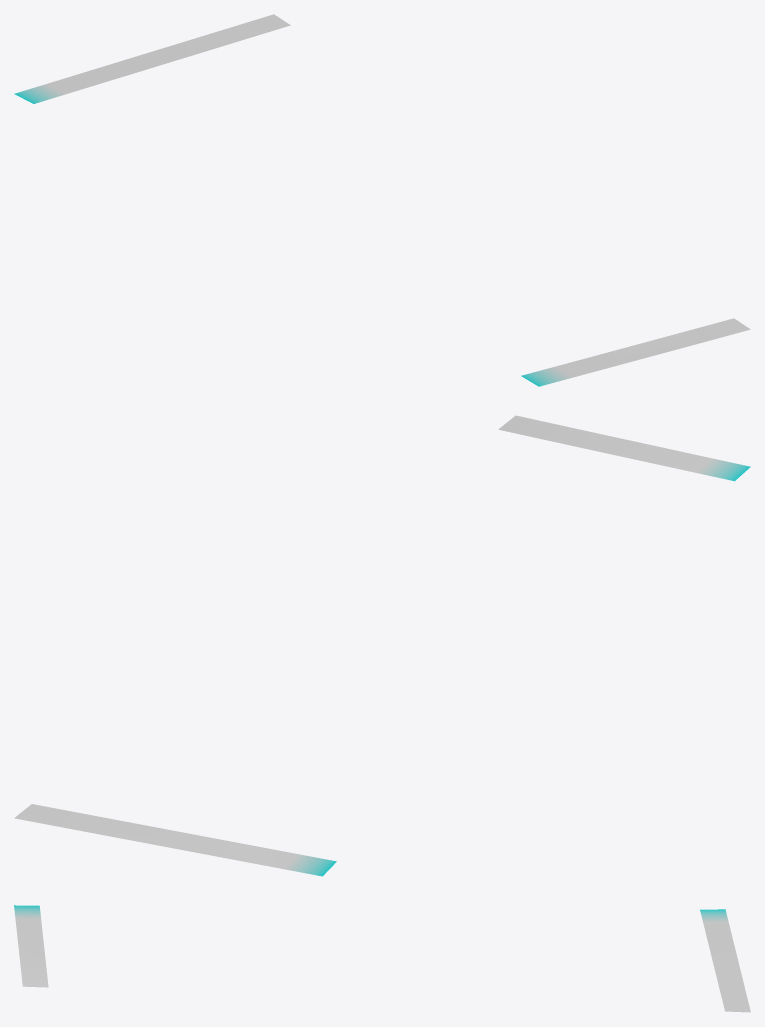
3 renders of one model, top to bottom at view 1: azimuth 30°, elevation 25°; view 2: azimuth 150°, elevation 25°; view 3: azimuth 270°, elevation 25°, orthographic. The views are drawn at different scales.
Parts seen in each view (by area): view 1: SpaceCenter_Long3_GenerateRoad_Asphalt_PCGMesh_Decal_Mesh_x9; view 2: SpaceCenter_Long3_GenerateRoad_Asphalt_PCGMesh_Decal_Mesh_x9; view 3: SpaceCenter_Long3_GenerateRoad_Asphalt_PCGMesh_Decal_Mesh_x9.
Boxes of the visible parts, left/top/right/bottom form: SpaceCenter_Long3_GenerateRoad_Asphalt_PCGMesh_Decal_Mesh_x9: left=14, top=14, right=750, bottom=386; SpaceCenter_Long3_GenerateRoad_Asphalt_PCGMesh_Decal_Mesh_x9: left=14, top=415, right=750, bottom=876; SpaceCenter_Long3_GenerateRoad_Asphalt_PCGMesh_Decal_Mesh_x9: left=14, top=905, right=750, bottom=1012.
Size of the model in its own units: 1029 by 340 by 39.95.
